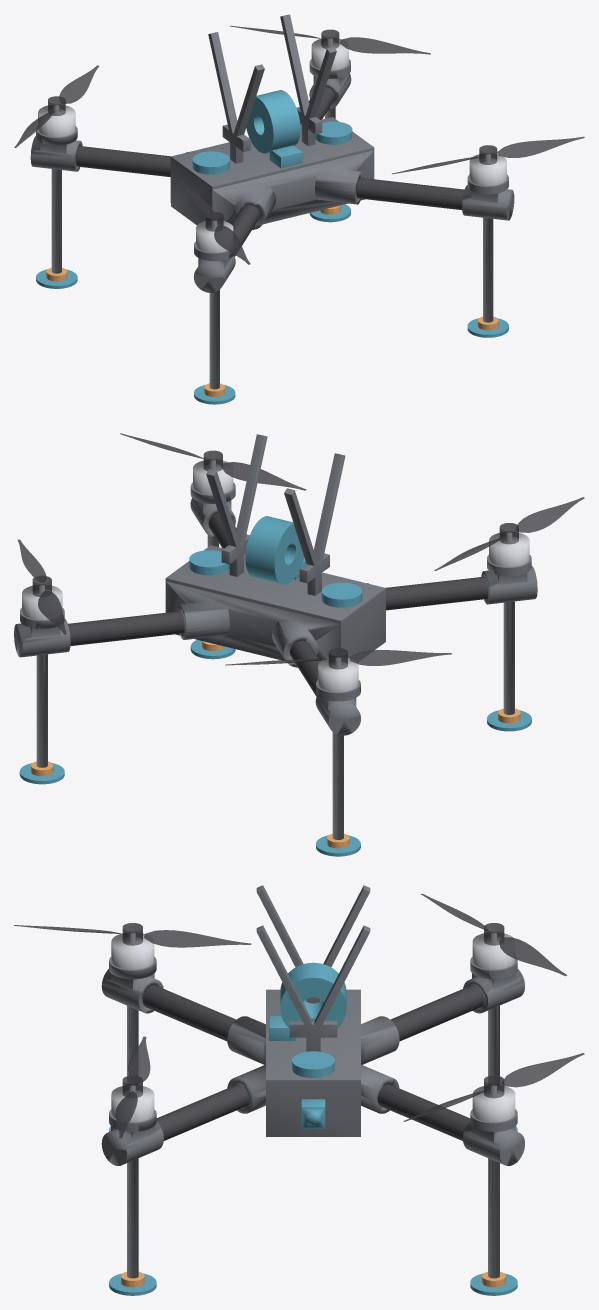
The model's file is phaethon.glb.
3 renders of one model, top to bottom at view 1: azimuth 30°, elevation 25°; view 2: azimuth 150°, elevation 25°; view 3: azimuth 270°, elevation 25°, orthographic. The views are drawn at different scales.
Parts seen in each view (by area): view 1: Phaethon V1; view 2: Phaethon V1; view 3: Phaethon V1.
Boxes of the visible parts, x1,y1,x2,y2 form: Phaethon V1: [14, 14, 584, 404]; Phaethon V1: [14, 433, 584, 856]; Phaethon V1: [14, 885, 584, 1295].
Size of the model in its own units: 0.4874 by 0.2808 by 0.4807.
